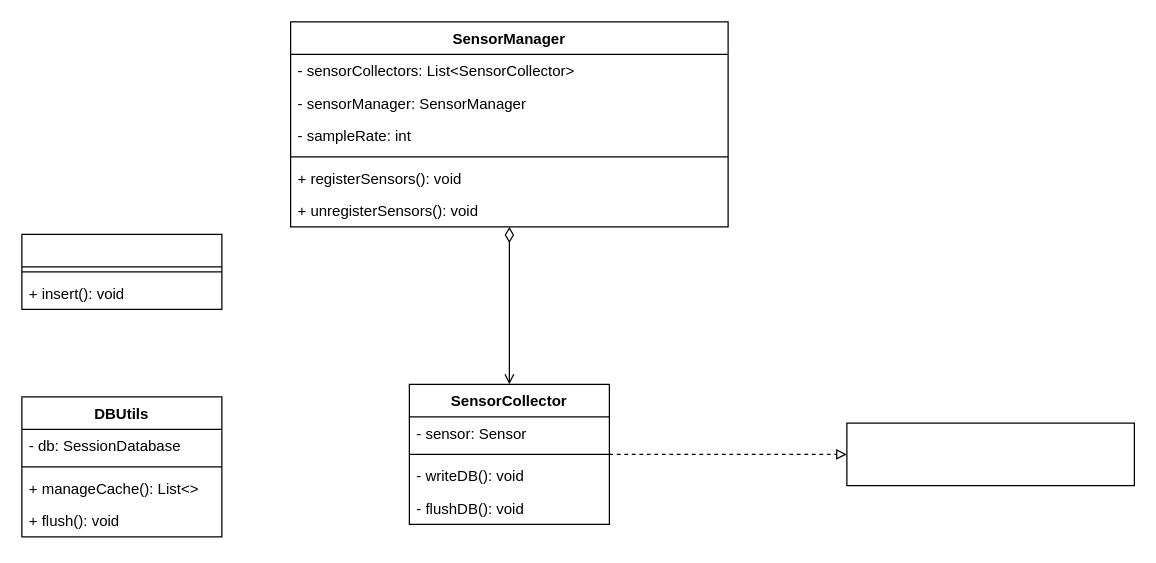
Image size: 1156x563. Some labels were removed from this diagram. The shapes that lost their labels are listed below. From the top down, each one's box as (x1, y1, x2, y2) in pixels, then its label:
(21, 233, 222, 309): SessionDatabase
(846, 422, 1134, 486): «interface» SensorEventListener
